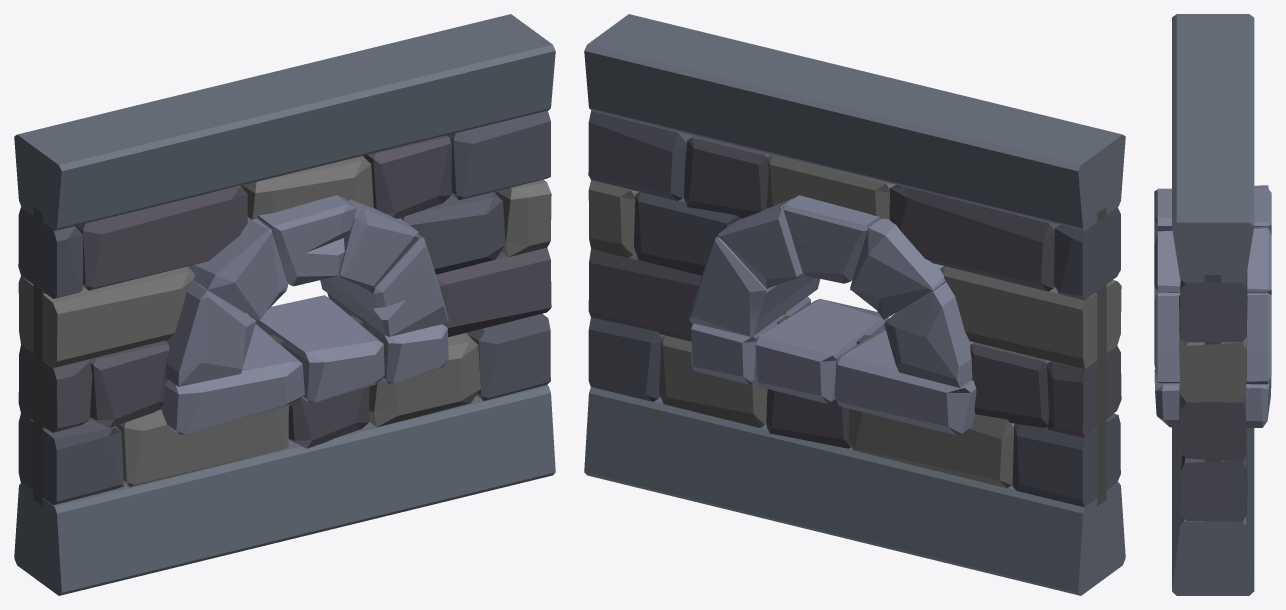
File: Wall_Window.fbx
3 views of the same model, side by side, from view 1: azimuth 30°, elevation 25°; view 2: azimuth 150°, elevation 25°; view 3: azimuth 270°, elevation 25° (orthographic). The views are drawn at different scales.
Visible parts, largest first — view 1: Muro_Ventana; view 2: Muro_Ventana; view 3: Muro_Ventana.
Boxes of the visible parts, box(x1,y1,x2,y2) form: Muro_Ventana: box(14, 14, 555, 595); Muro_Ventana: box(584, 14, 1125, 595); Muro_Ventana: box(1154, 14, 1271, 595).
Size of the model in its own units: 600 by 500 by 143.
